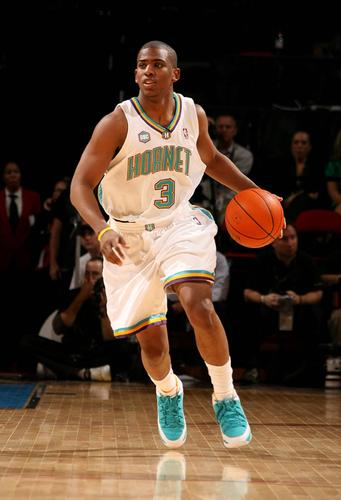ball: (225, 188, 284, 249)
